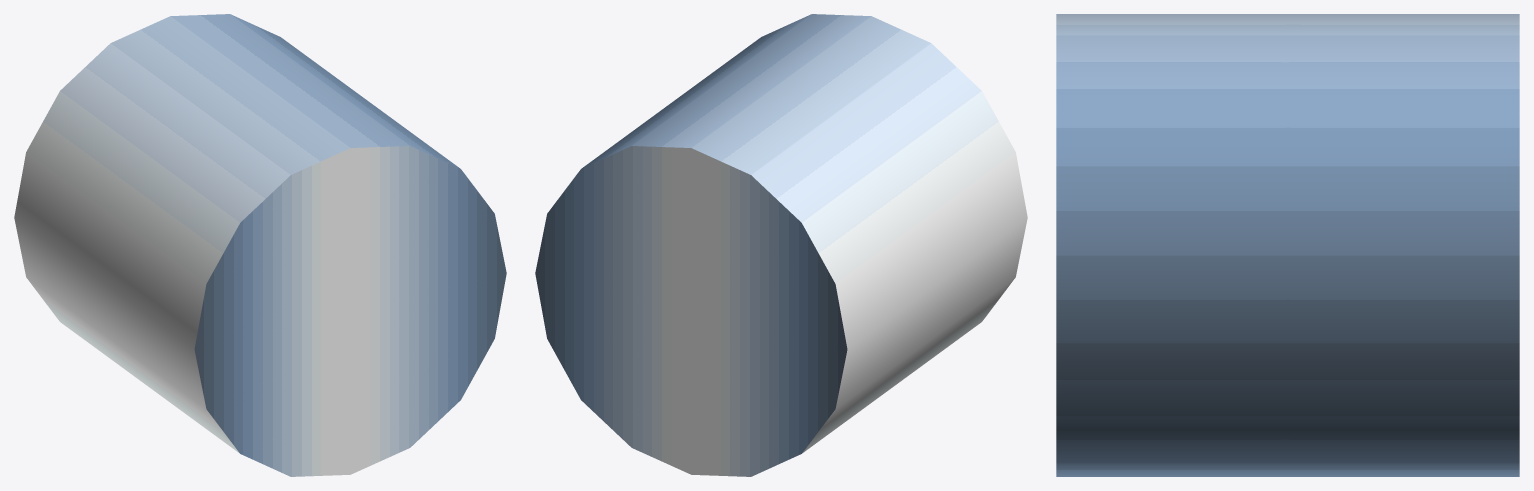
File: connector.dae
The picture shows the model from 3 angles, left to right: view 1: azimuth 30°, elevation 25°; view 2: azimuth 150°, elevation 25°; view 3: azimuth 270°, elevation 25°; orthographic projection. The views are drawn at different scales.
Visible parts, largest first — view 1: skp2362; view 2: skp2362; view 3: skp2362.
Boxes of the visible parts, left/top/right/bottom form: skp2362: left=14, top=14, right=506, bottom=476; skp2362: left=535, top=14, right=1027, bottom=476; skp2362: left=1056, top=14, right=1519, bottom=476.
Bounding box in the file's own units: 39.37 × 39.37 × 39.37.
Materials: 1 (1 with a texture image).
